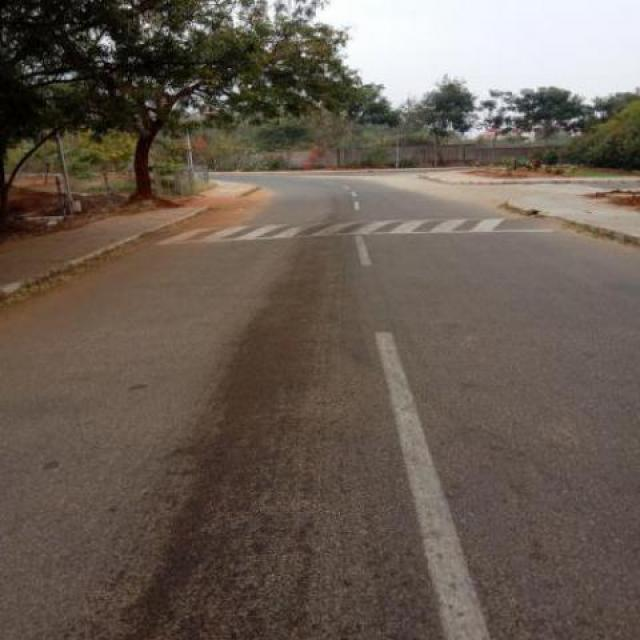Speed Bump: (142, 216, 561, 246)
